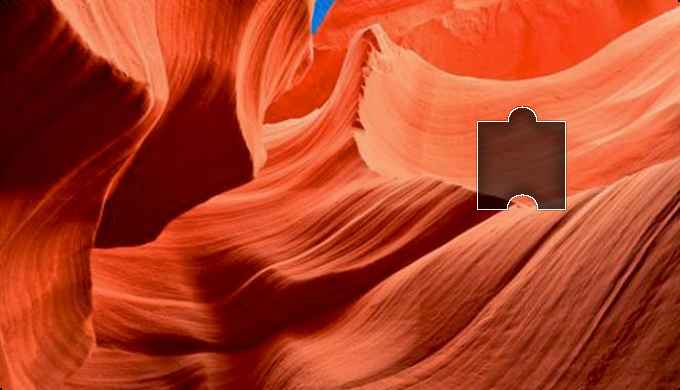gap: (477, 105, 566, 213)
